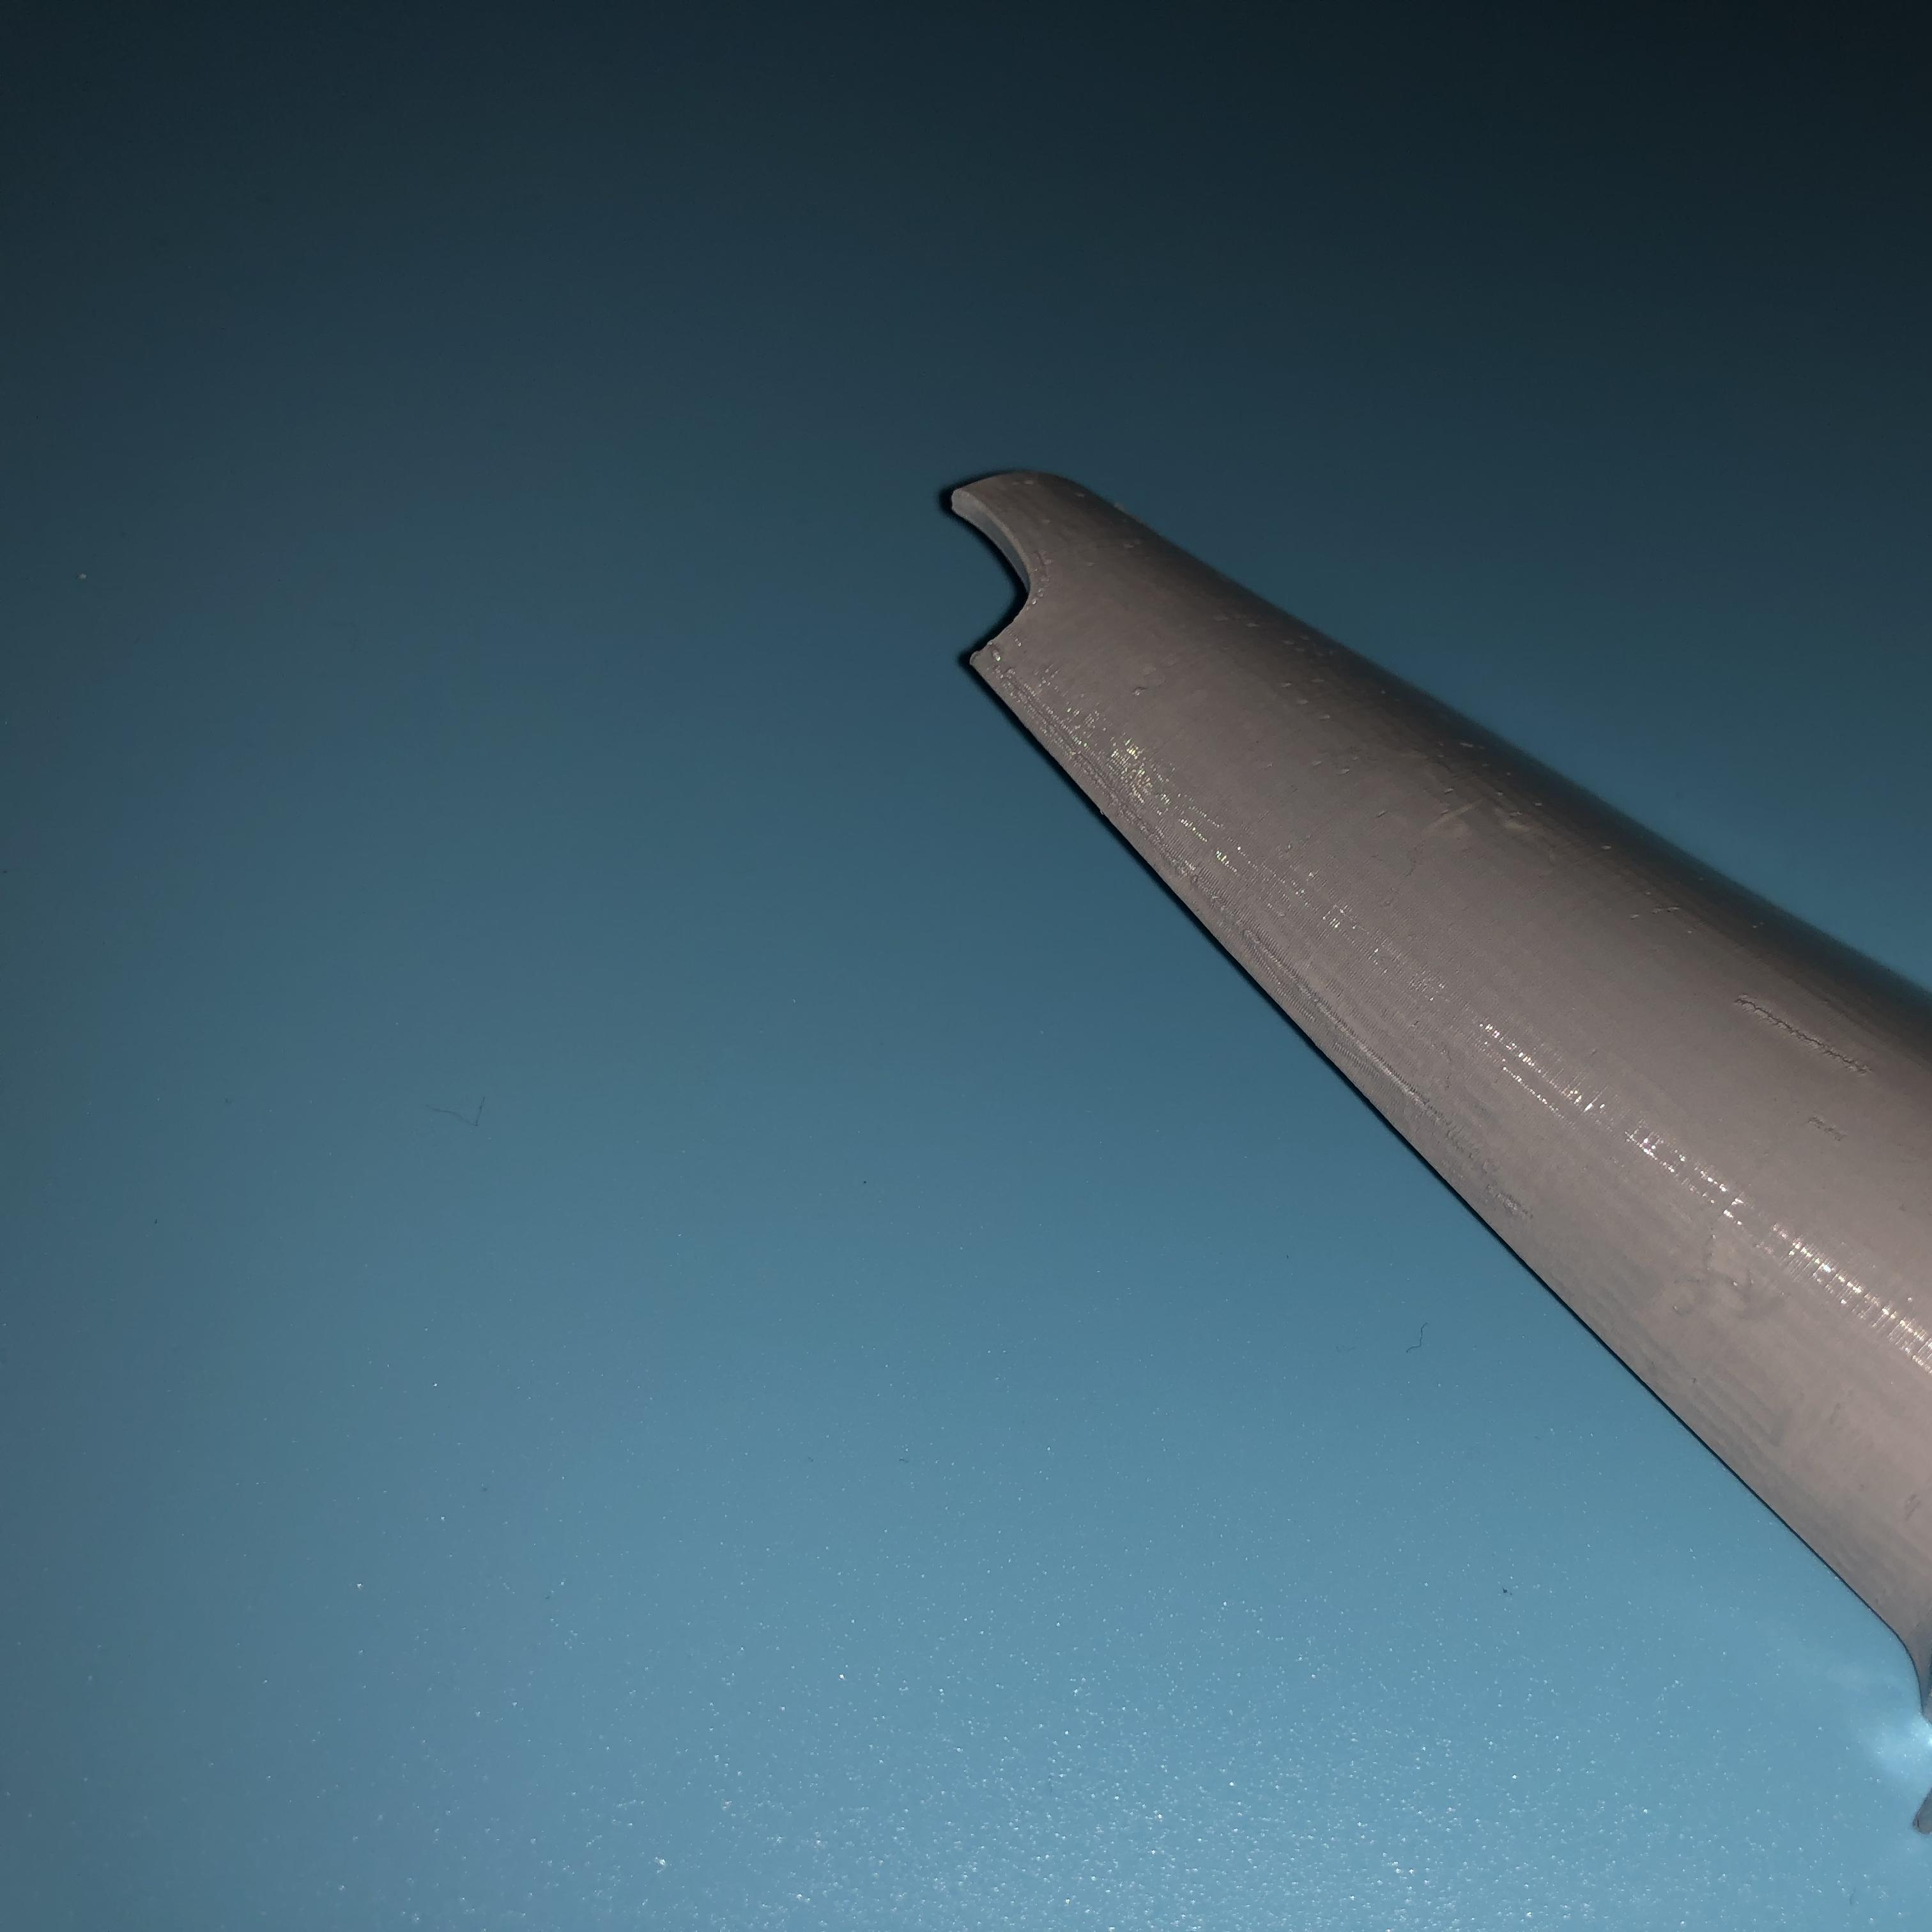fracture: (934, 485, 1053, 681)
